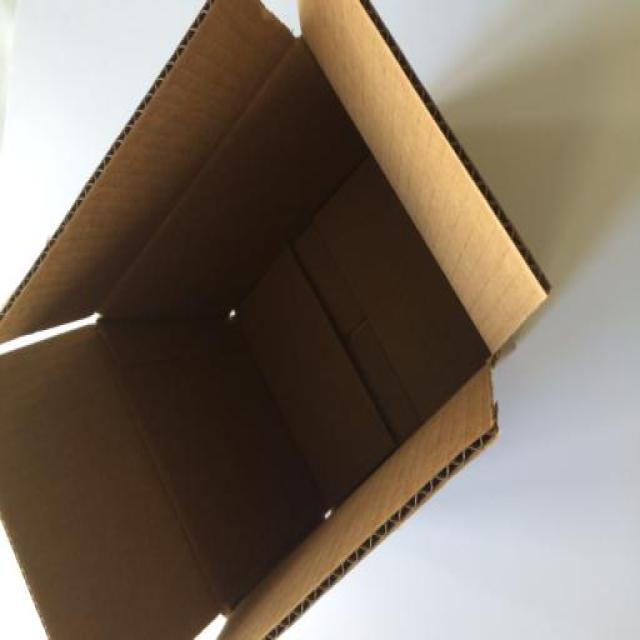cardboard: (0, 0, 551, 640)
